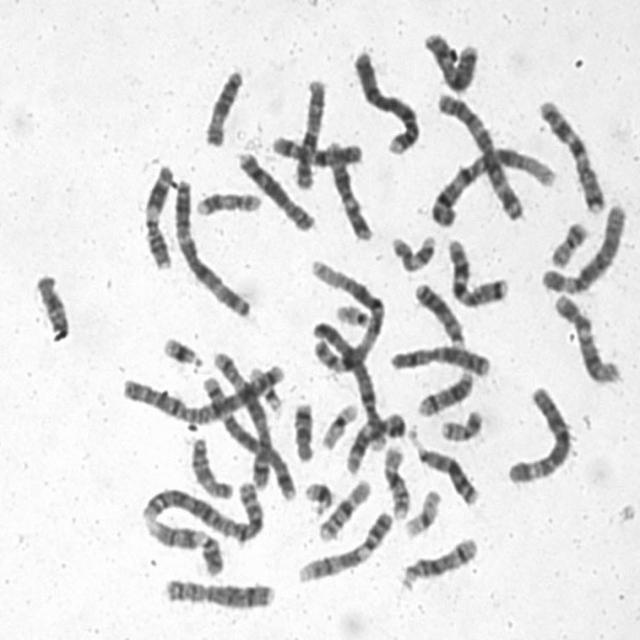A1: (424, 140, 560, 228), (305, 253, 388, 376)
A2: (116, 355, 288, 427), (135, 474, 269, 544)
A3: (432, 84, 528, 222), (167, 171, 253, 319)
B4: (307, 314, 390, 452), (348, 42, 423, 156)
B5: (196, 364, 300, 502), (204, 344, 282, 498)
C10: (289, 70, 328, 190), (265, 126, 366, 168)
C11: (137, 156, 177, 272), (341, 411, 410, 471)
C12: (549, 286, 623, 386), (322, 133, 376, 242)
C6: (536, 195, 630, 296), (502, 378, 575, 486)
C7: (533, 92, 609, 214), (441, 231, 512, 310)
C8: (232, 144, 318, 234), (158, 571, 278, 611)
C9: (291, 503, 396, 585), (139, 511, 227, 578)
D13: (402, 421, 481, 508), (408, 275, 468, 348)
D14: (394, 528, 482, 592), (412, 363, 477, 418)
D15: (198, 60, 246, 148), (184, 429, 236, 501)
E16: (313, 472, 374, 542), (377, 438, 413, 521)
E17: (385, 226, 439, 274), (190, 184, 264, 218)
E18: (28, 265, 72, 342), (287, 394, 318, 464)
F19: (399, 481, 443, 540), (316, 395, 360, 451)
F20: (544, 213, 592, 270), (435, 402, 486, 443)
G21: (156, 327, 206, 369), (299, 472, 336, 514)
G22: (245, 359, 285, 414), (330, 297, 373, 328)
X: (418, 23, 481, 95), (384, 338, 494, 378)
